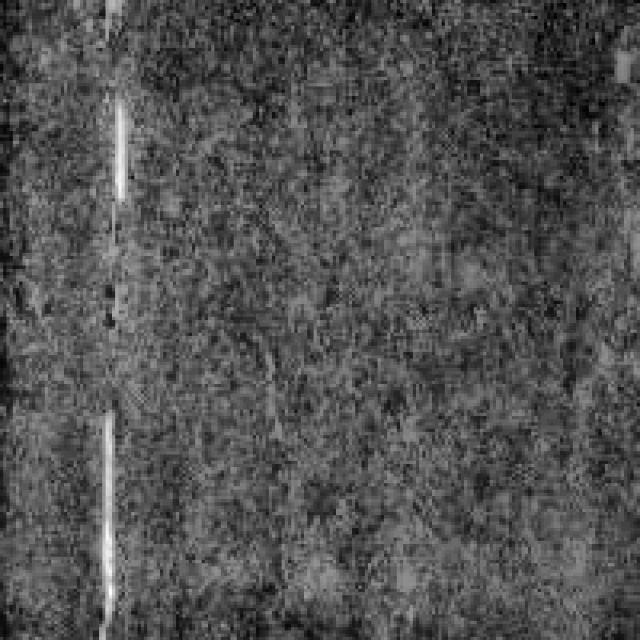Inclusion: (77, 401, 128, 634), (96, 93, 131, 208)
